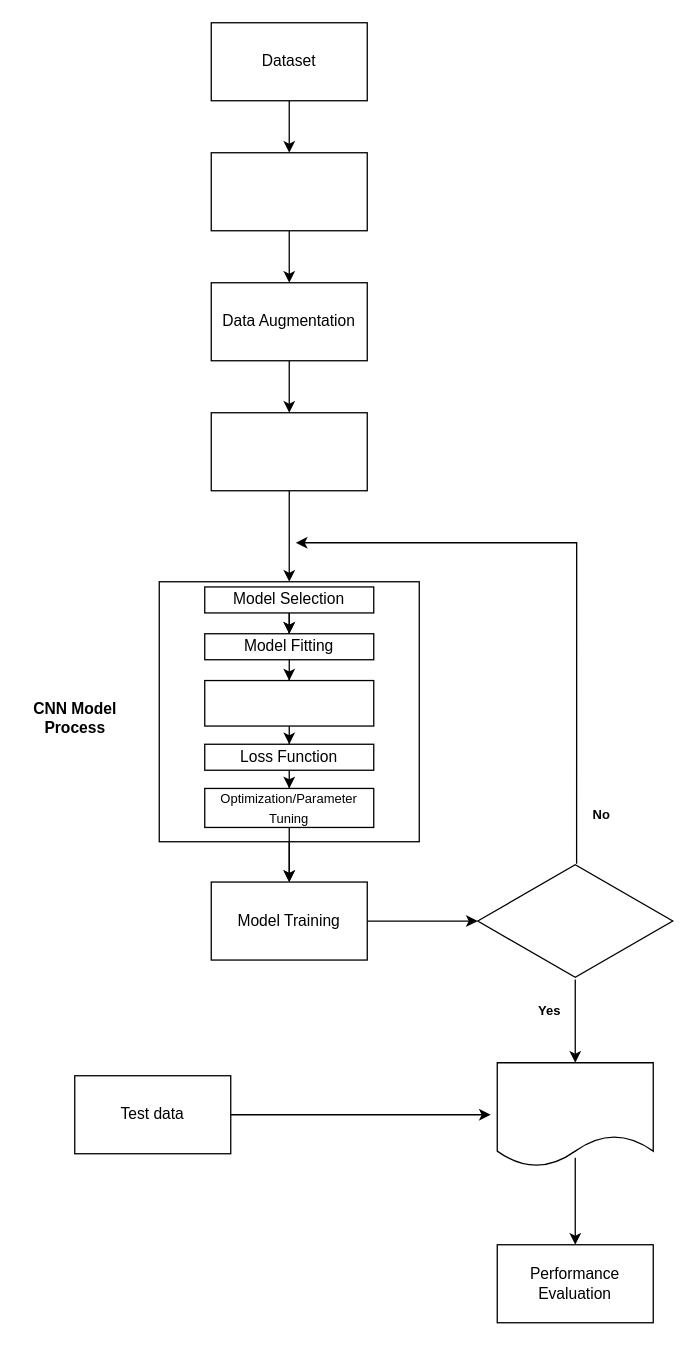
Some shapes in this 696 by 1346 pixel diagram are drawn without their labels. Here are the shapes that lost their labels. From the top down, the box of each, then its label:
(210, 151, 367, 231): Data Preparation
(210, 411, 367, 491): Splitting Data Into Training, Testing and Validation Set
(203, 679, 374, 726): Network Structure & Layers
(476, 861, 673, 980): Training Successful
(496, 1061, 653, 1167): Model
